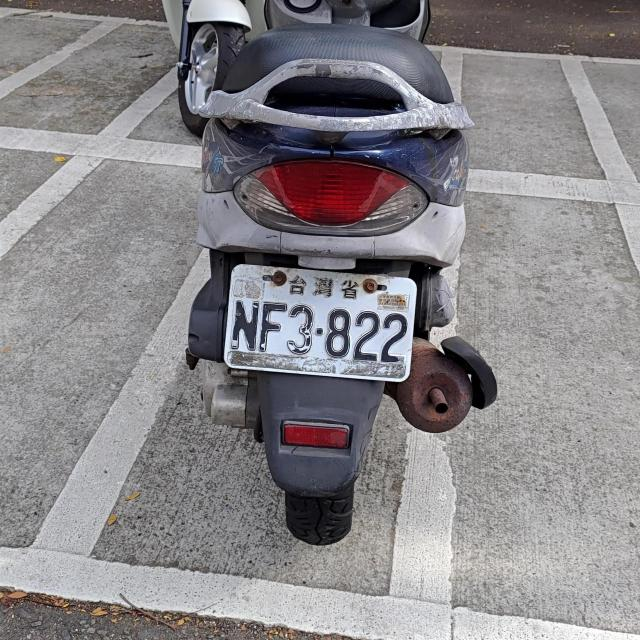W: (220, 263, 419, 383)
